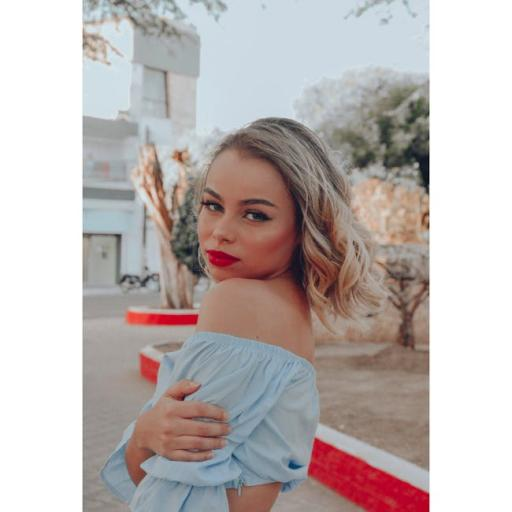lipstick: (208, 251, 239, 267)
